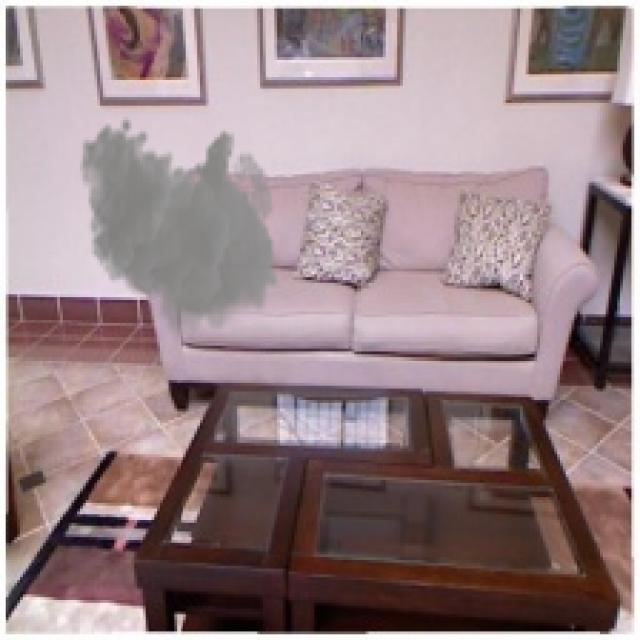Smoke: (80, 117, 280, 343)
